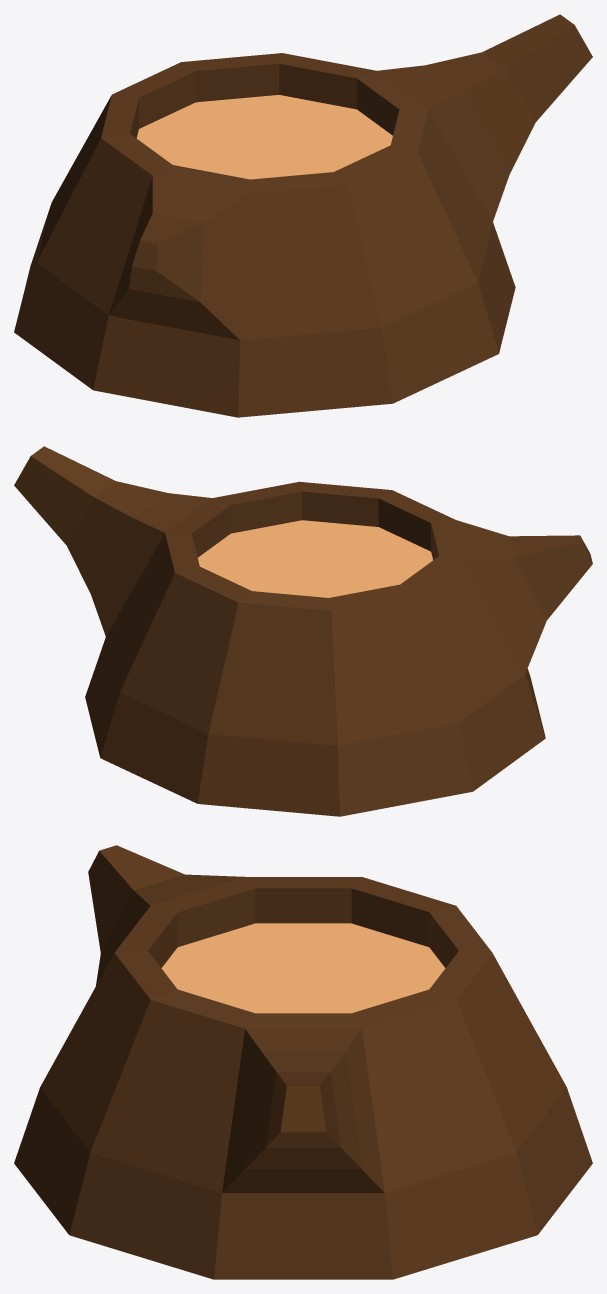
The model's file is Trunk 3.fbx.
3 renders of one model, top to bottom at view 1: azimuth 30°, elevation 25°; view 2: azimuth 150°, elevation 25°; view 3: azimuth 270°, elevation 25°, orthographic. The views are drawn at different scales.
Visible parts, largest first — view 1: Trunk 3; view 2: Trunk 3; view 3: Trunk 3.
Boxes of the visible parts, left/top/right/bottom form: Trunk 3: left=14, top=14, right=592, bottom=417; Trunk 3: left=14, top=446, right=592, bottom=816; Trunk 3: left=14, top=845, right=592, bottom=1279.
Bounding box in the file's own units: 1.86 × 0.7196 × 1.55.
